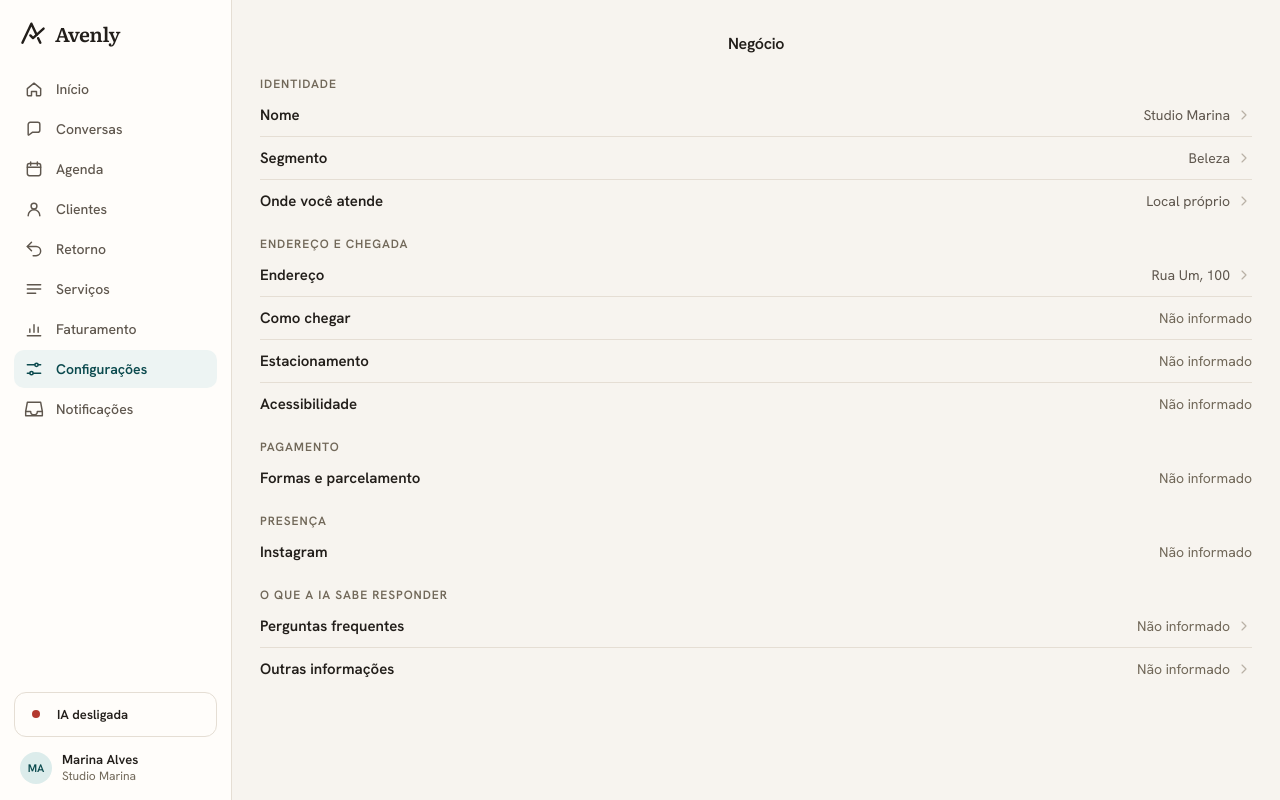
Goal112 N1: /configuracoes/negocio guarda o campo em edição › estreito para largo e de volta
Click the button "Nome Studio Marina" at (280, 115), box x1=260 y1=94 x2=1252 y2=137
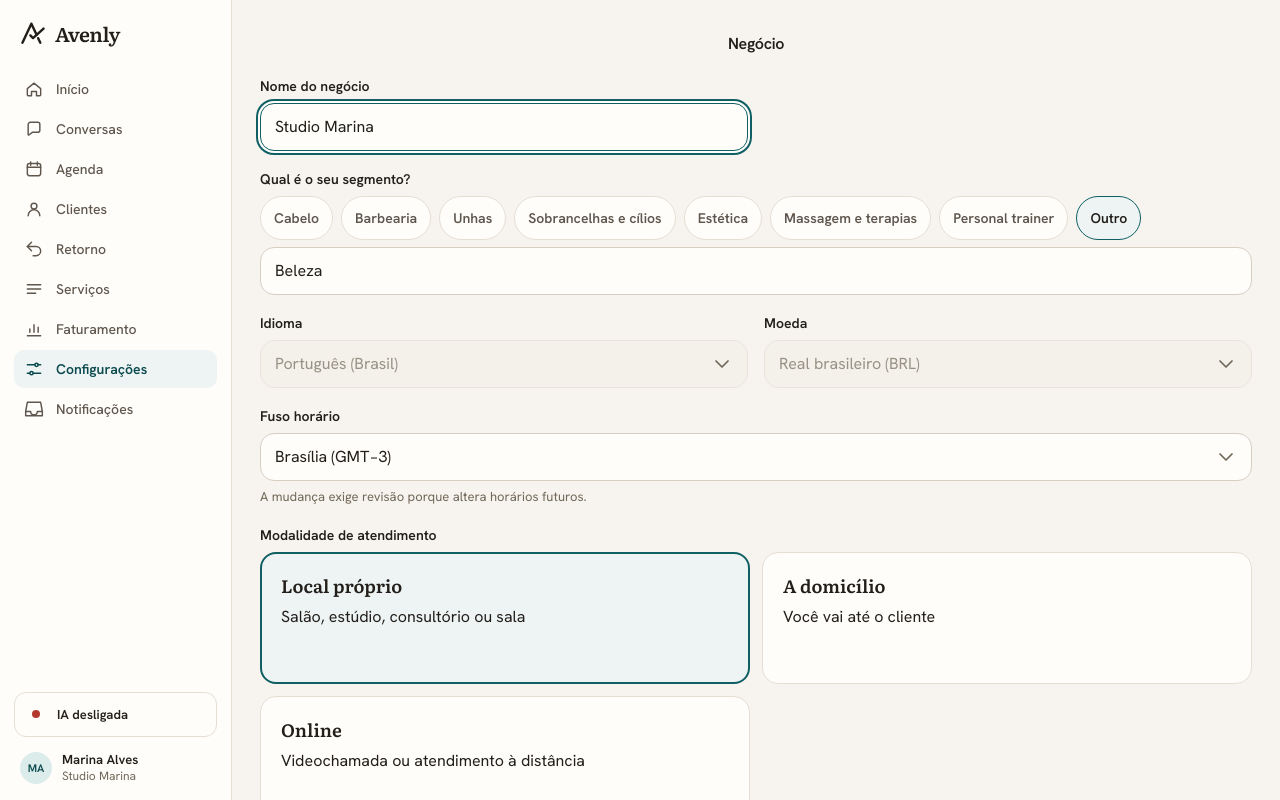
Type " Centro" into the field labelled "Nome do negócio" at (504, 127), box x1=260 y1=103 x2=748 y2=151
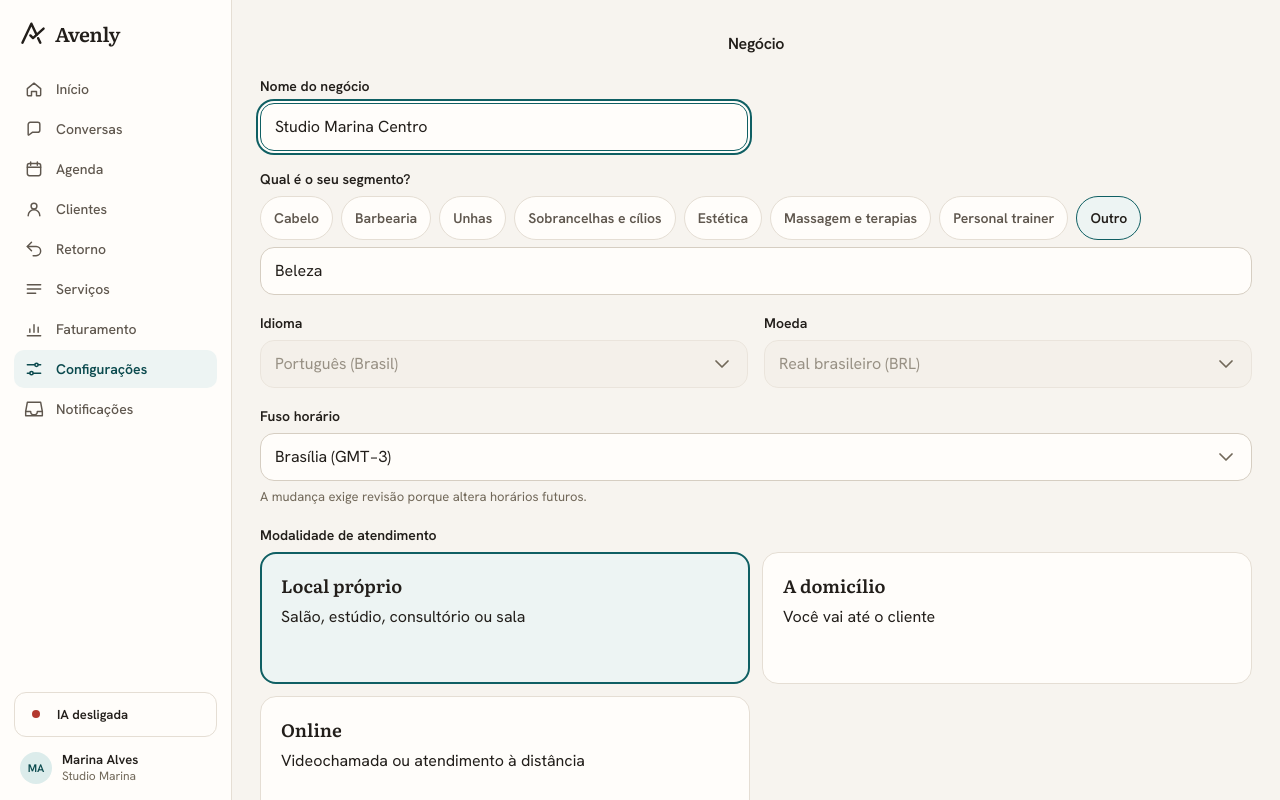
Result: the field labelled "Nome do negócio" holds "Studio Marina Centro" at x1=260 y1=103 x2=748 y2=151
